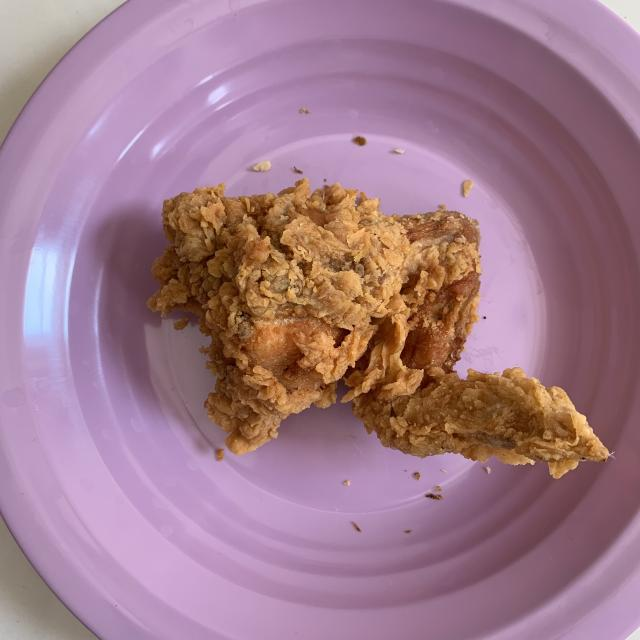Frango: (153, 181, 611, 470)
